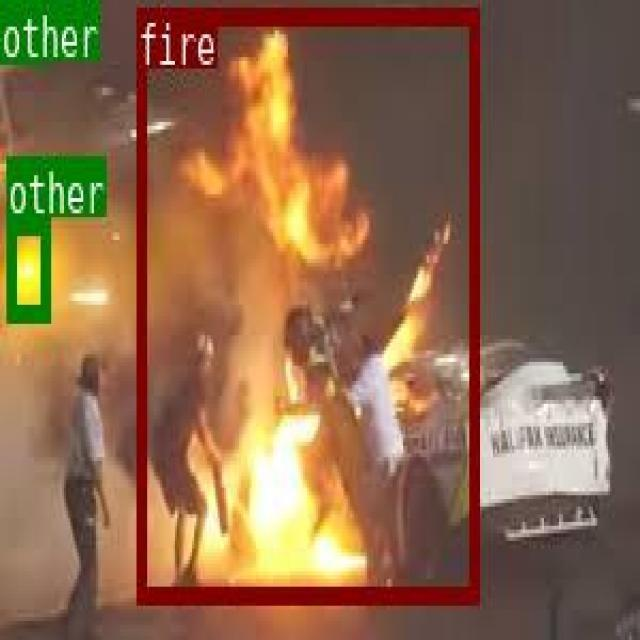fire: (137, 6, 478, 599)
